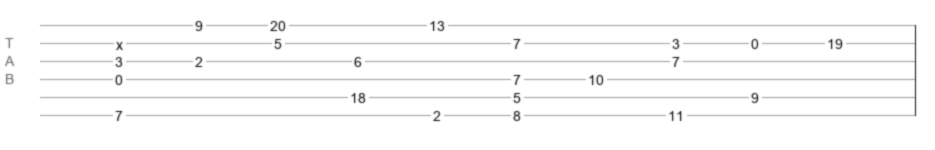0: (115, 72, 123, 82), (751, 36, 759, 46)
10: (588, 72, 604, 82)
11: (668, 108, 684, 118)
13: (429, 18, 445, 28)
18: (350, 90, 366, 100)
19: (827, 36, 843, 46)
2: (195, 54, 203, 64), (433, 108, 441, 118)
20: (270, 18, 286, 28)
3: (115, 54, 123, 64), (672, 36, 680, 46)
5: (274, 36, 282, 46), (513, 90, 521, 100)
6: (354, 54, 362, 64)
7: (115, 108, 123, 118), (513, 72, 521, 82), (513, 36, 521, 46), (672, 54, 680, 64)
8: (513, 108, 521, 118)
9: (195, 18, 203, 28), (751, 90, 759, 100)
x: (116, 37, 123, 45)
